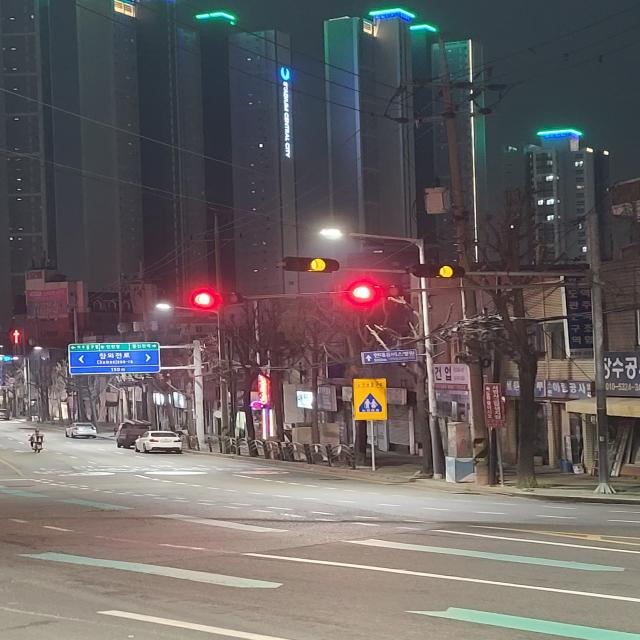Red Light: (192, 292, 217, 306), (354, 284, 374, 300)
Yellow Light: (436, 263, 455, 280), (308, 257, 327, 272)
